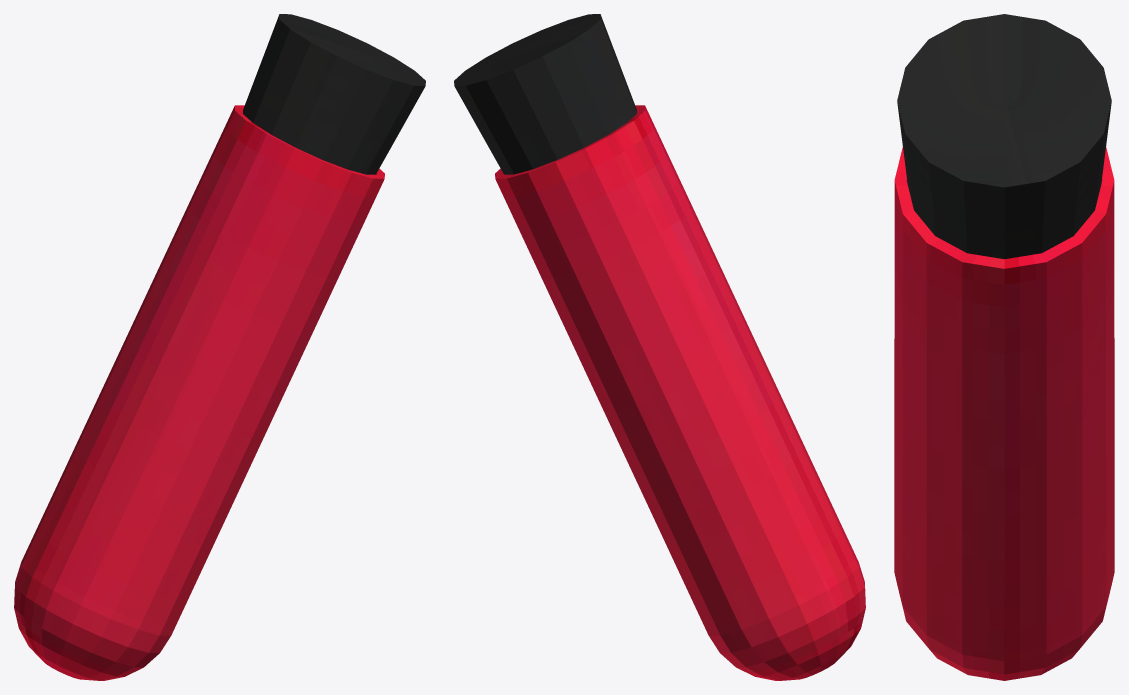
The model's file is TempPortion.fbx.
The picture shows the model from 3 angles, left to right: view 1: azimuth 30°, elevation 25°; view 2: azimuth 150°, elevation 25°; view 3: azimuth 270°, elevation 25°; orthographic projection. The views are drawn at different scales.
Parts seen in each view (by area): view 1: SM_Currency_Health_Small.mo; view 2: SM_Currency_Health_Small.mo; view 3: SM_Currency_Health_Small.mo.
Boxes of the visible parts, box(x1,y1,x2,y2) form: SM_Currency_Health_Small.mo: box(14, 14, 425, 680); SM_Currency_Health_Small.mo: box(454, 14, 865, 680); SM_Currency_Health_Small.mo: box(894, 14, 1114, 680).
Bounding box in the file's own units: 36.09 × 52.66 × 13.48.
